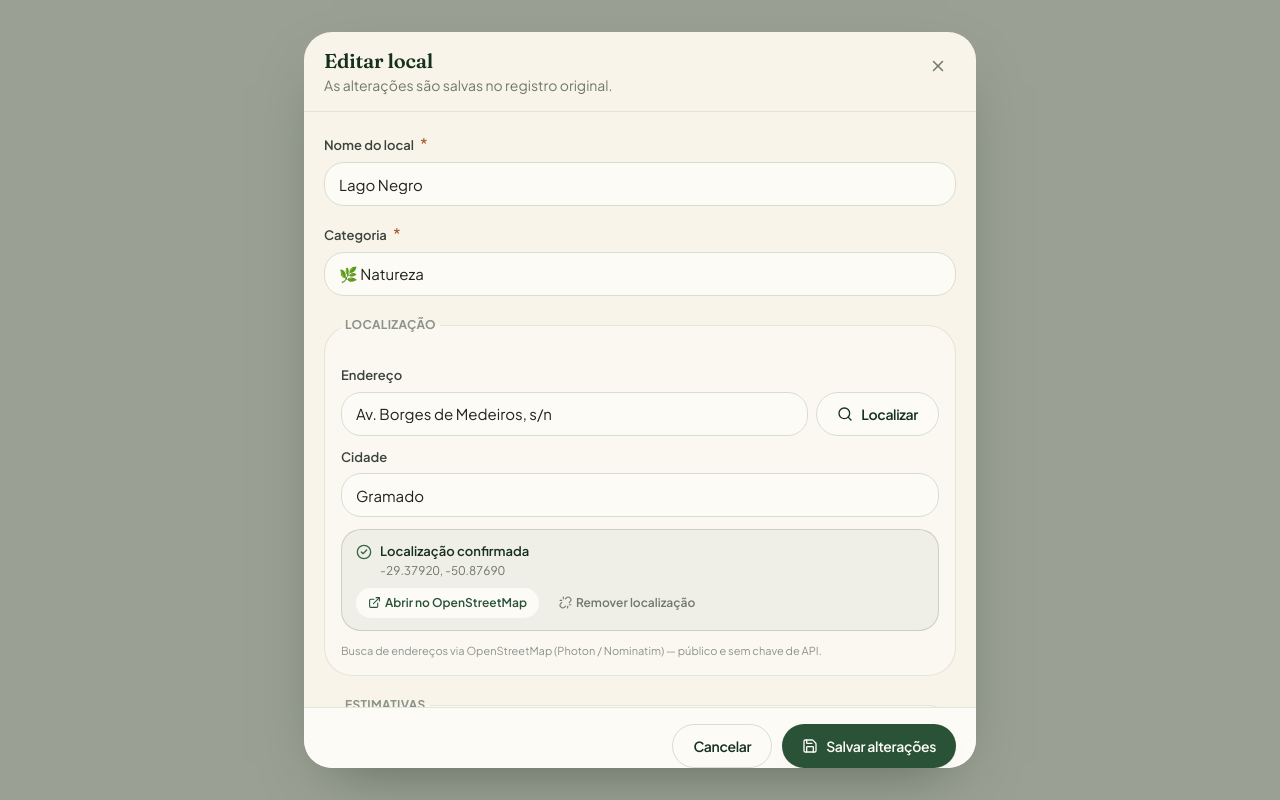
Test: EditarItemSheet › mantém o modal aberto quando a validação falha
The width and height of the screenshot is (1280, 800).
Clear the field showing "Lago Negro" at (640, 184), box [324,162,956,206]
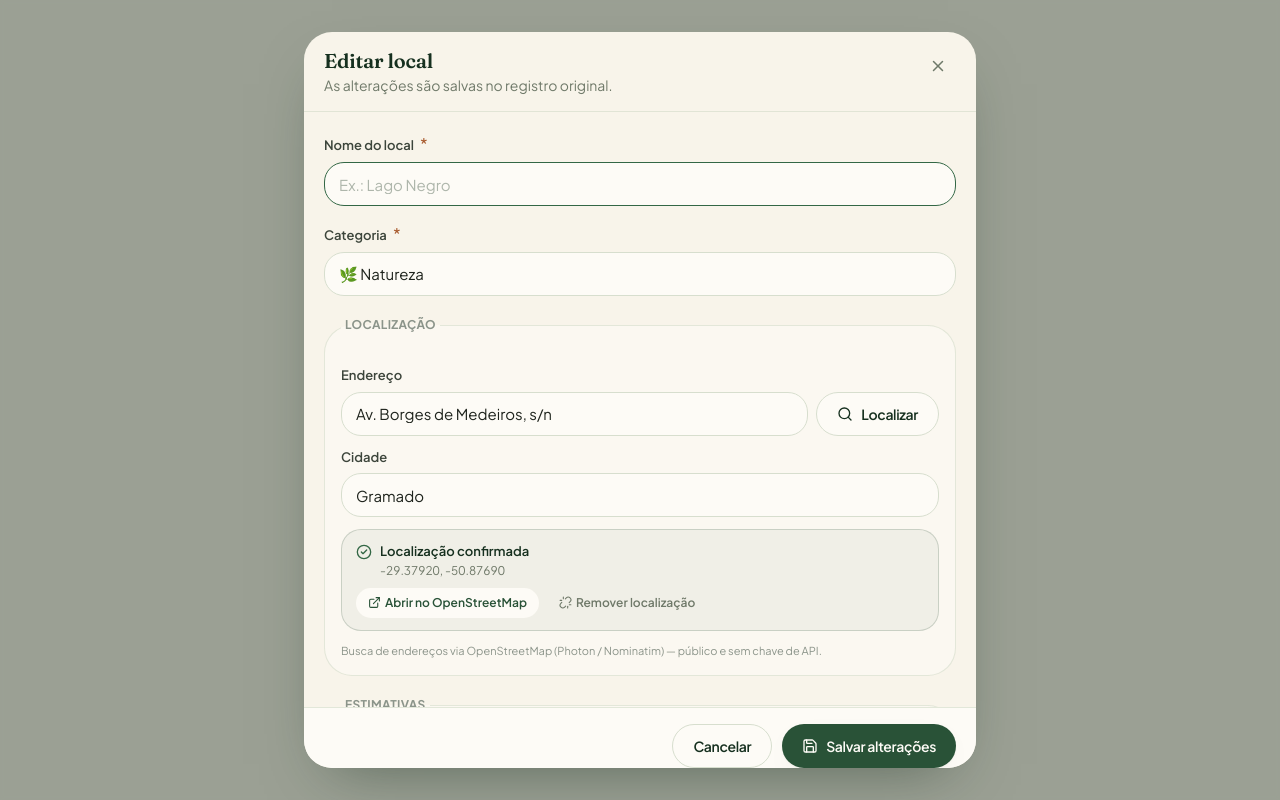
Click the button "Salvar alterações".
click(869, 746)  # box [782,724,956,768]
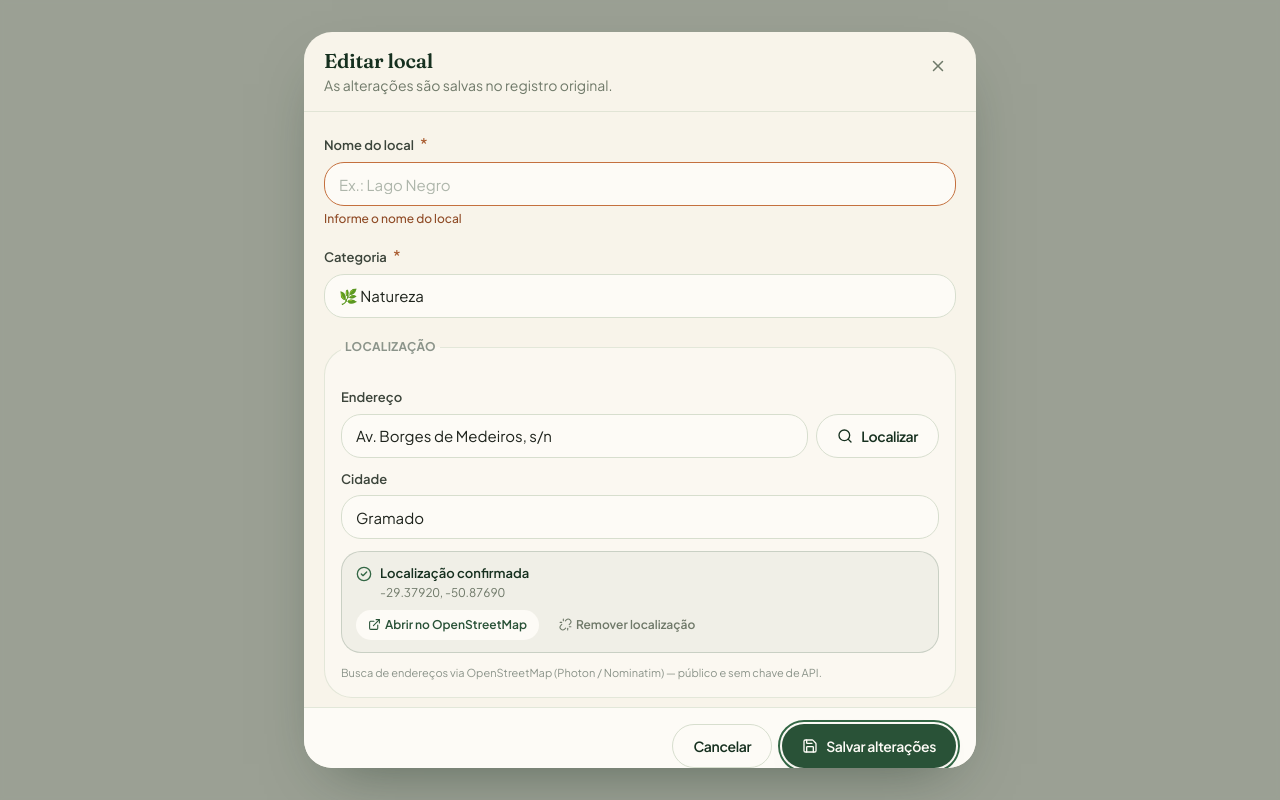
expect the text "Informe o nome do local" is shown: met, box [324,211,462,226]
